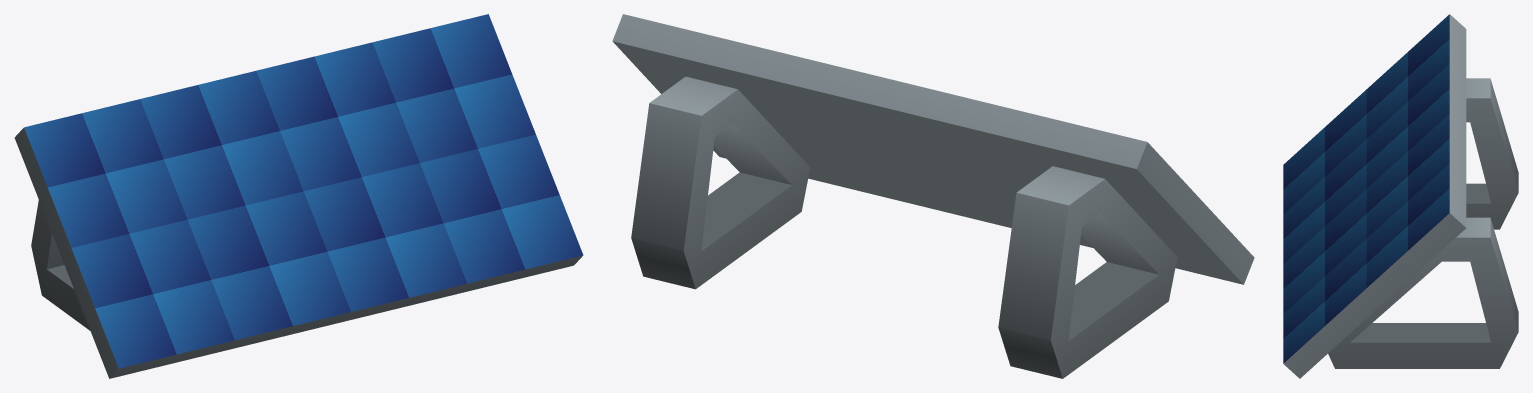
Rendered from solarpanel.obj.
3 renders of one model, left to right at view 1: azimuth 30°, elevation 25°; view 2: azimuth 150°, elevation 25°; view 3: azimuth 270°, elevation 25°, orthographic. The views are drawn at different scales.
Size of the model in its own units: 0.9 by 0.3709 by 0.45.
1 material, 1 textured.
